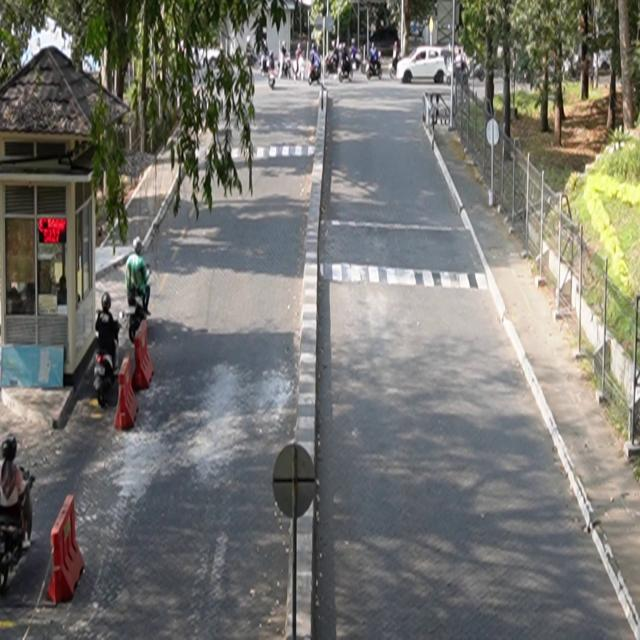car: (396, 46, 457, 85)
